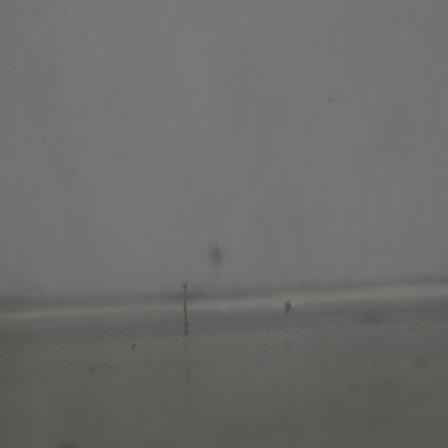Jentik-Nyamuk: (176, 279, 199, 339)
